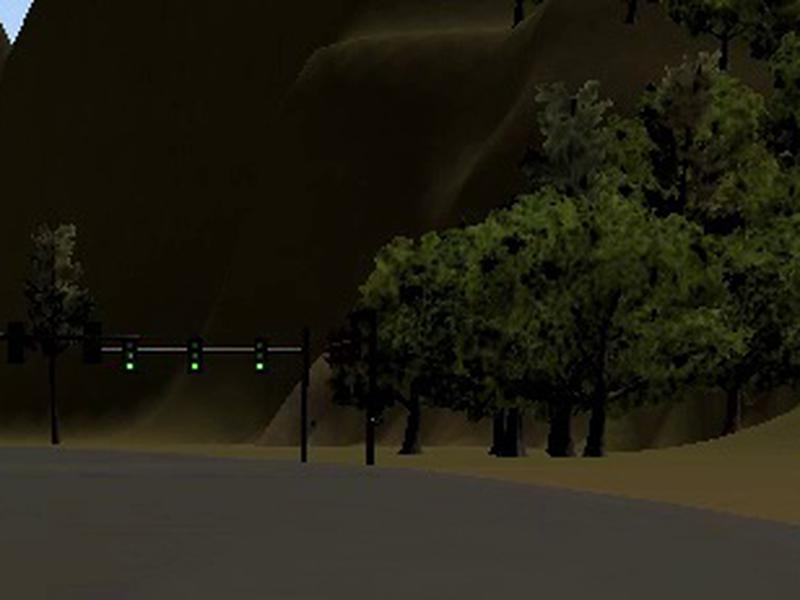Green: (253, 339, 269, 373), (188, 340, 201, 373), (124, 340, 137, 371)
